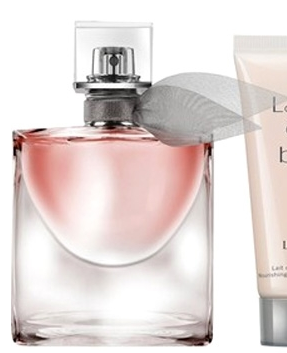lancome_la_vie_est_belle: (7, 16, 283, 353)
